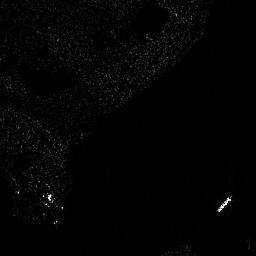ship: (216, 196, 230, 212)
